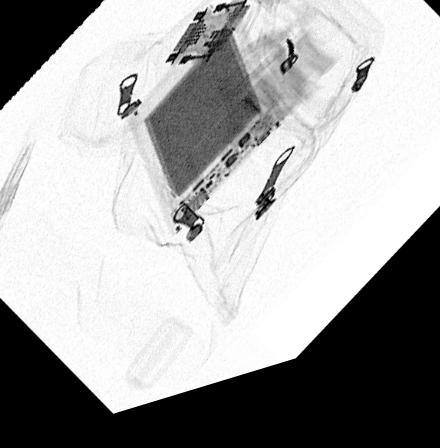Powerbank: (128, 16, 285, 247)
